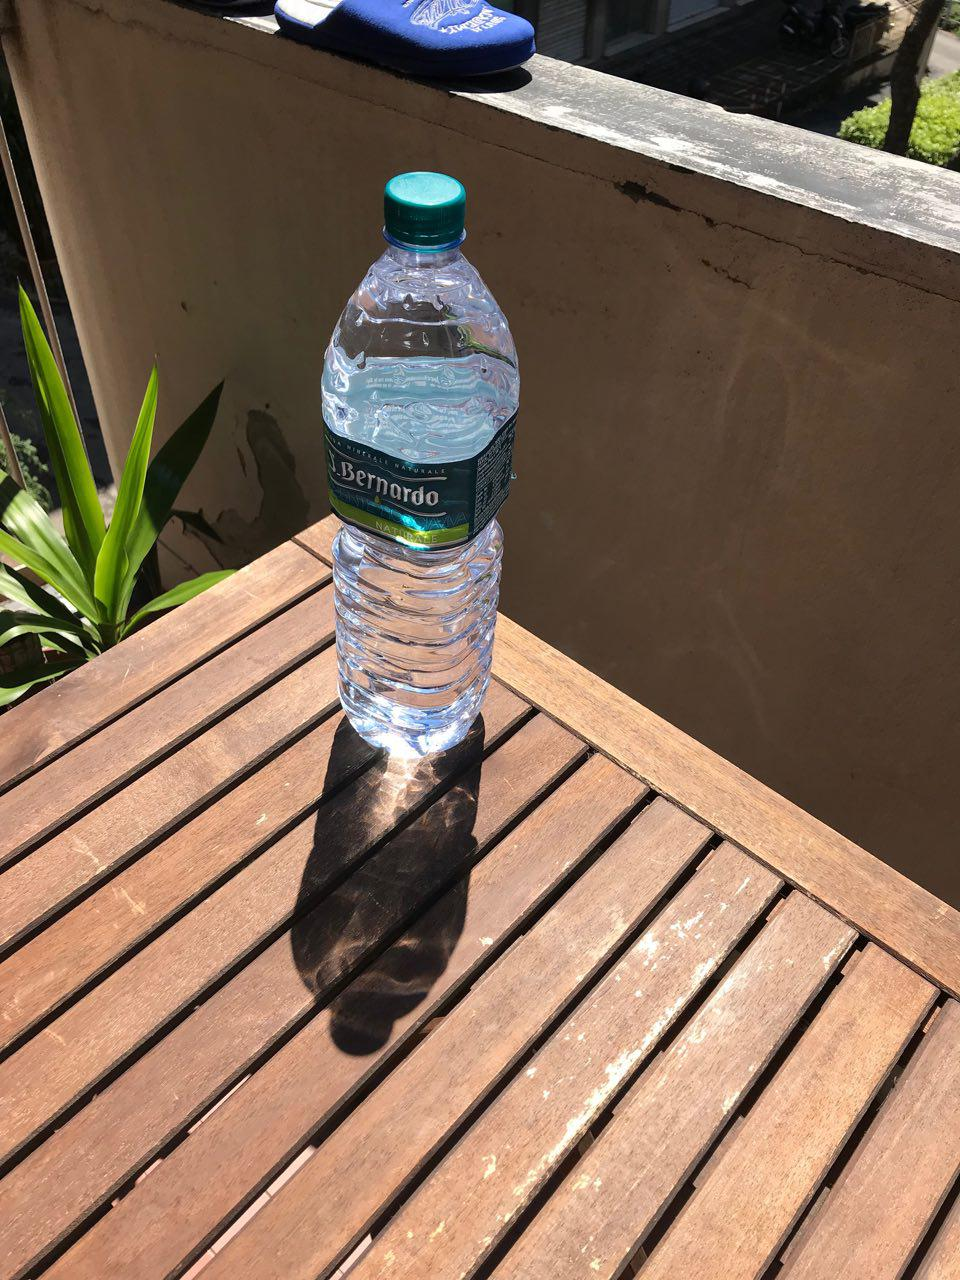san_bernardo: (319, 170, 523, 755)
